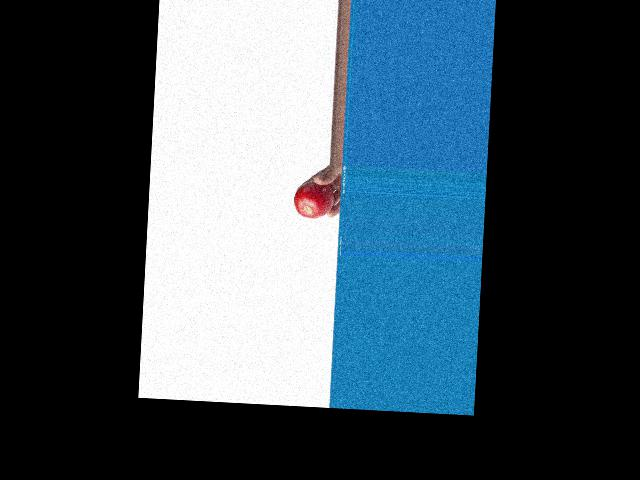tomato: (293, 179, 335, 219)
